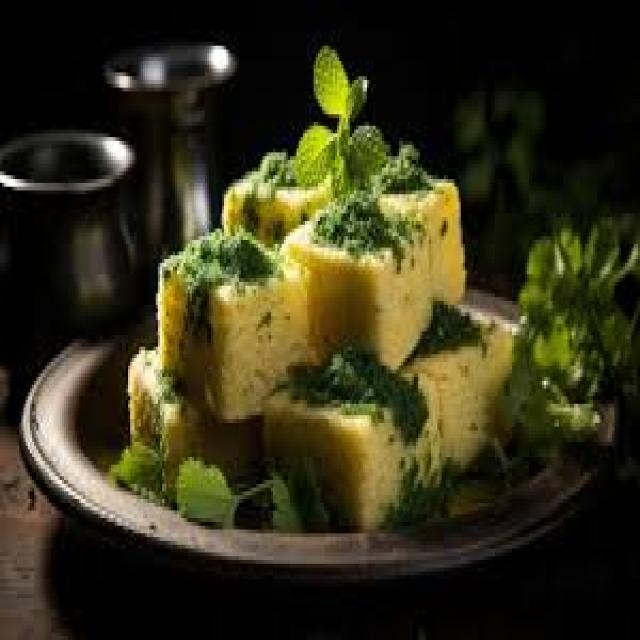DHOKLA: (130, 50, 512, 526), (158, 168, 463, 419)
